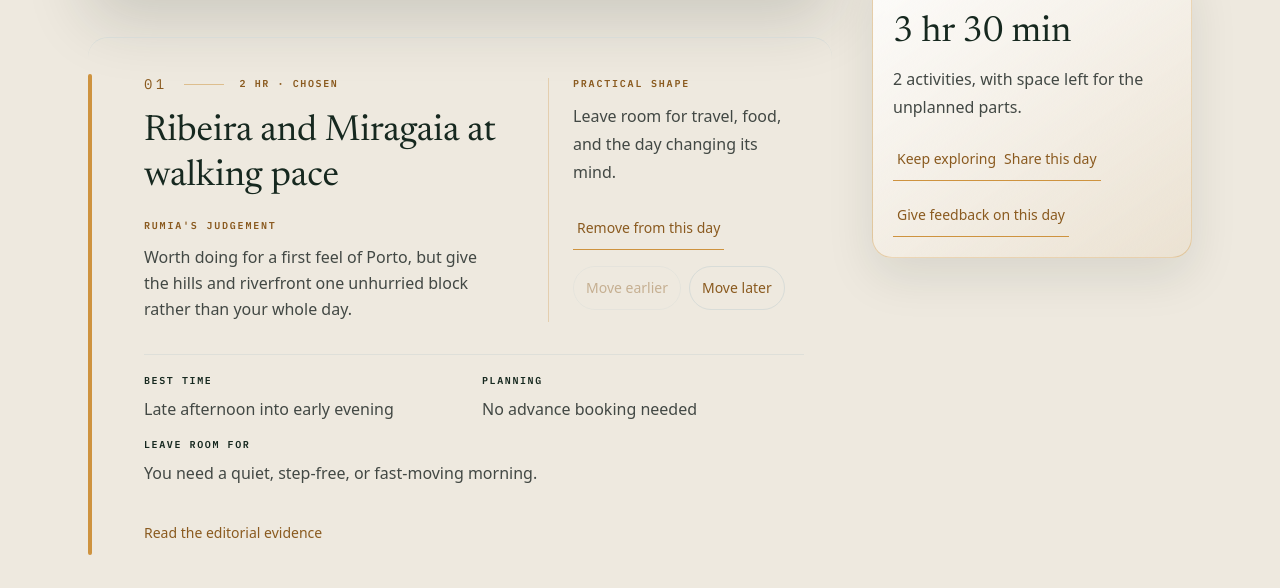
Test: ActivityWorkspace › keeps the fallback address truthful after removal and restores it on undo
The image size is (1280, 588).
(page scrolled)
What coordinates should you click on to do the following:
click the button with aria-label "Remove Ribeira and Miragaia at walking pace"
I would click on:
 (649, 228)
Its box is [573, 206, 724, 250].
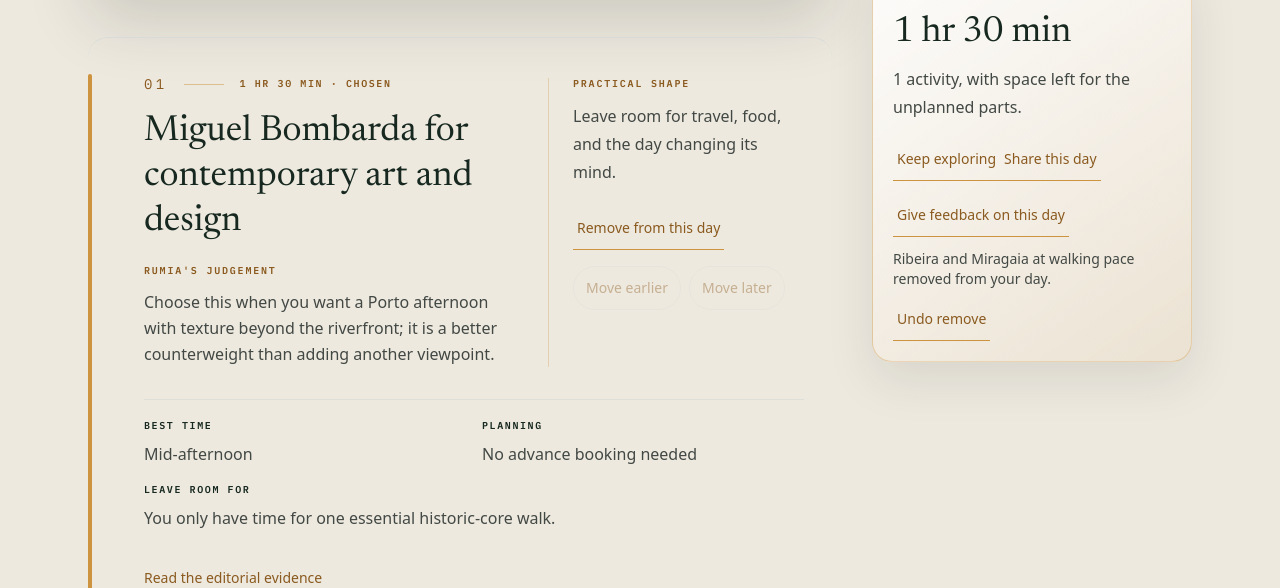
What coordinates should you click on to do the following:
click the button "Share this day"
I would click on:
 (1050, 159)
Its box is [1000, 137, 1101, 181].
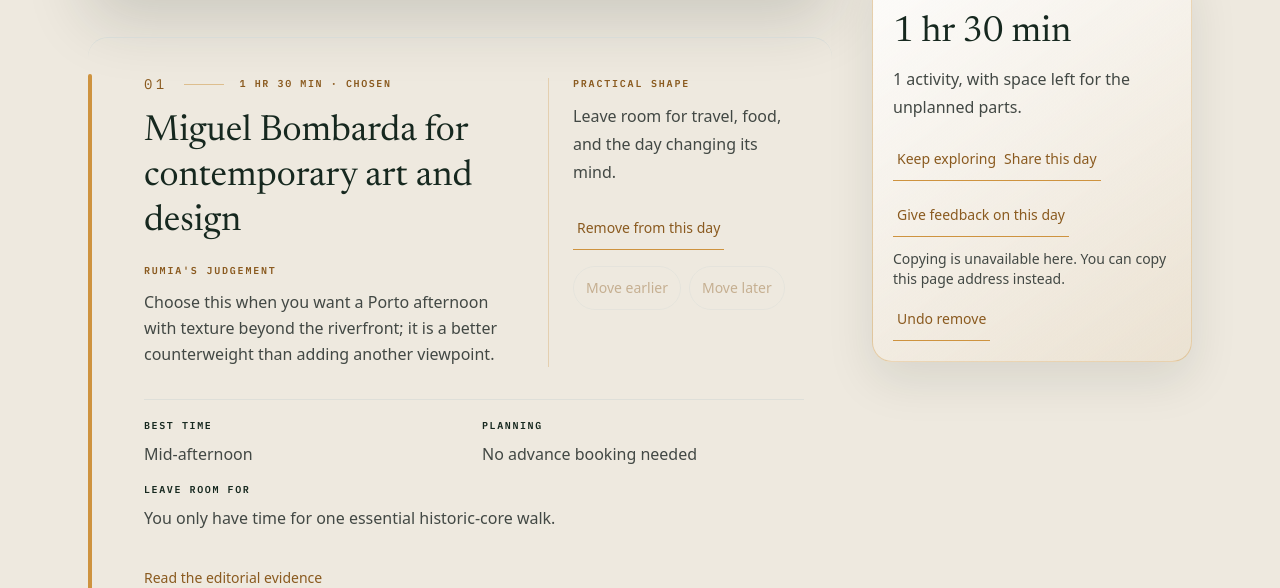
Expected: the message shows "copy this page address", [893, 249, 1166, 288]
What coordinates should you click on to do the following:
click the button "Share this day"
I would click on:
 (1050, 159)
Its box is [1000, 137, 1101, 181].
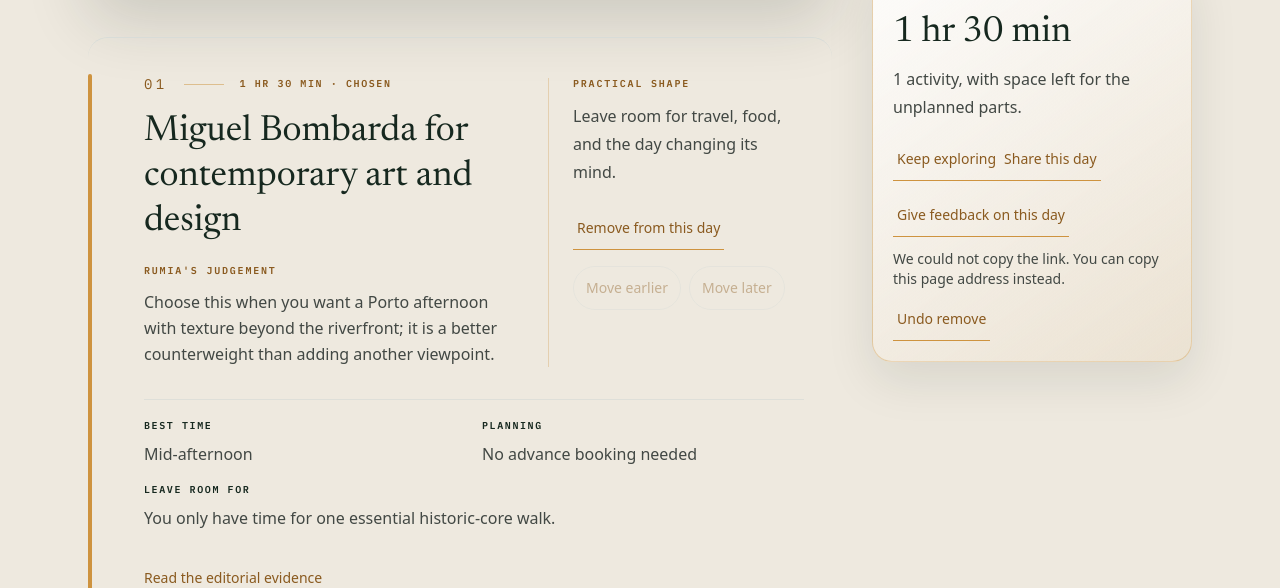
Expected: the message shows "could not copy", [893, 249, 1159, 288]
What coordinates should you click on to do the following:
click the button "Undo remove"
I would click on:
 (942, 319)
Its box is [893, 297, 990, 341].
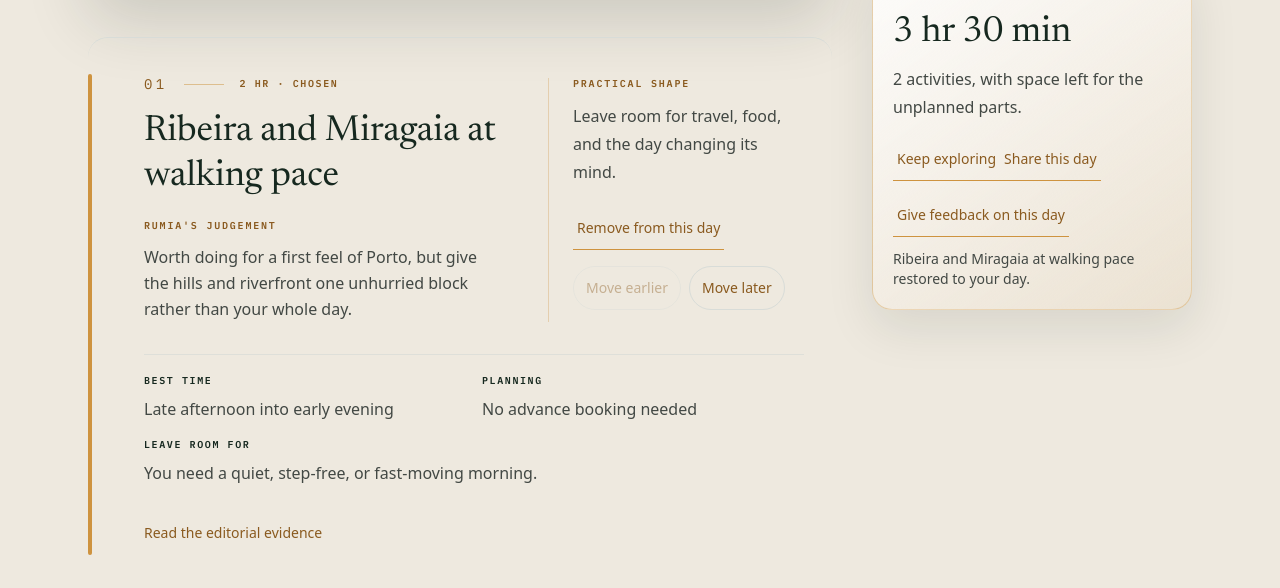
What coordinates should you click on to do the following:
click the button "Share this day"
I would click on:
 (1050, 159)
Its box is [1000, 137, 1101, 181].
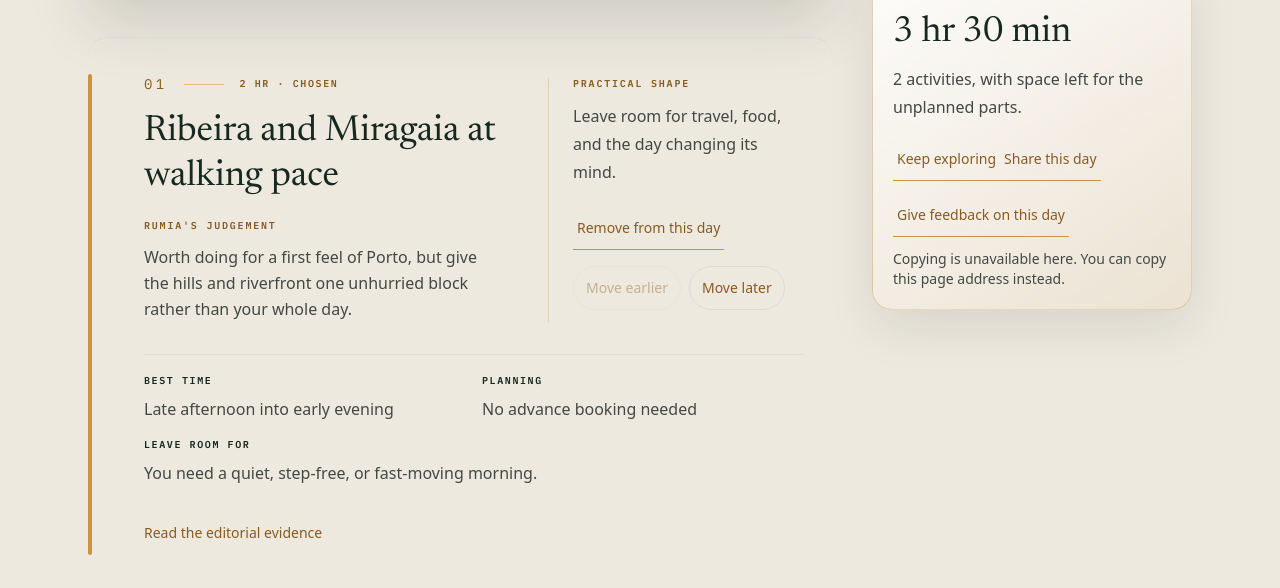
Expected: the message shows "copy this page address", [893, 249, 1166, 288]
What coordinates should you click on to do the following:
click the button "Share this day"
I would click on:
 (1050, 159)
Its box is [1000, 137, 1101, 181].
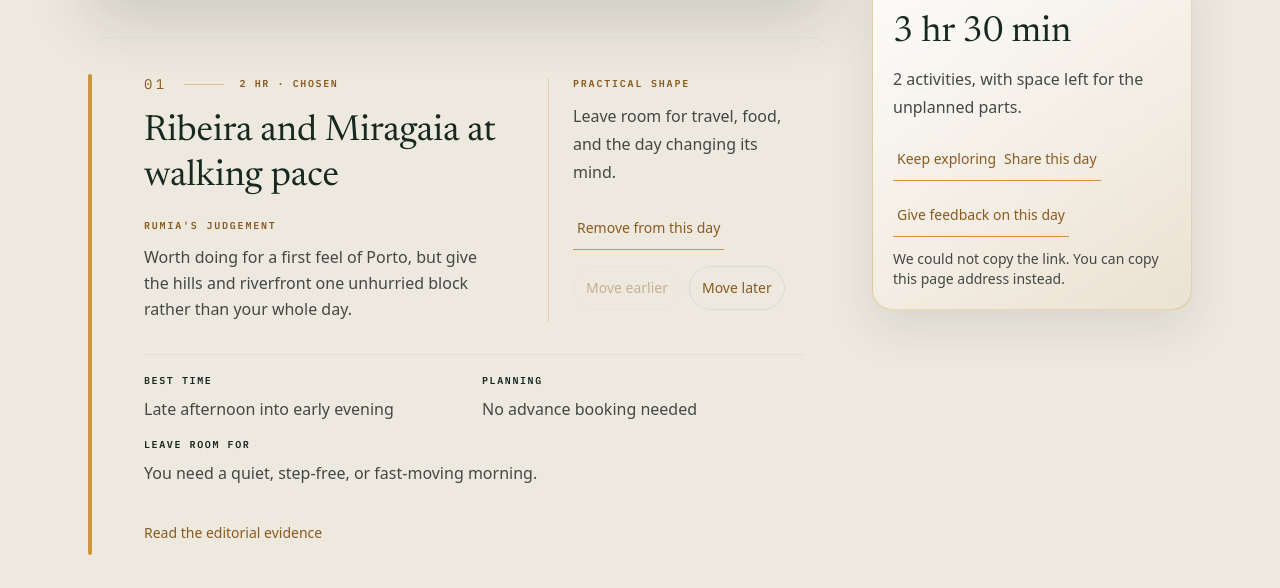
Expected: the message shows "could not copy", [893, 249, 1159, 288]
